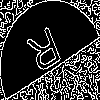R: (25, 25, 67, 83)
